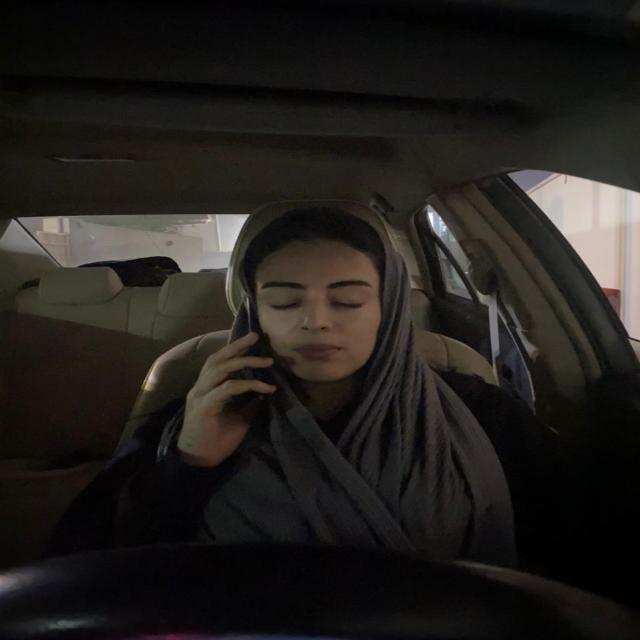mobile: (227, 314, 303, 426)
person: (244, 214, 408, 378)
